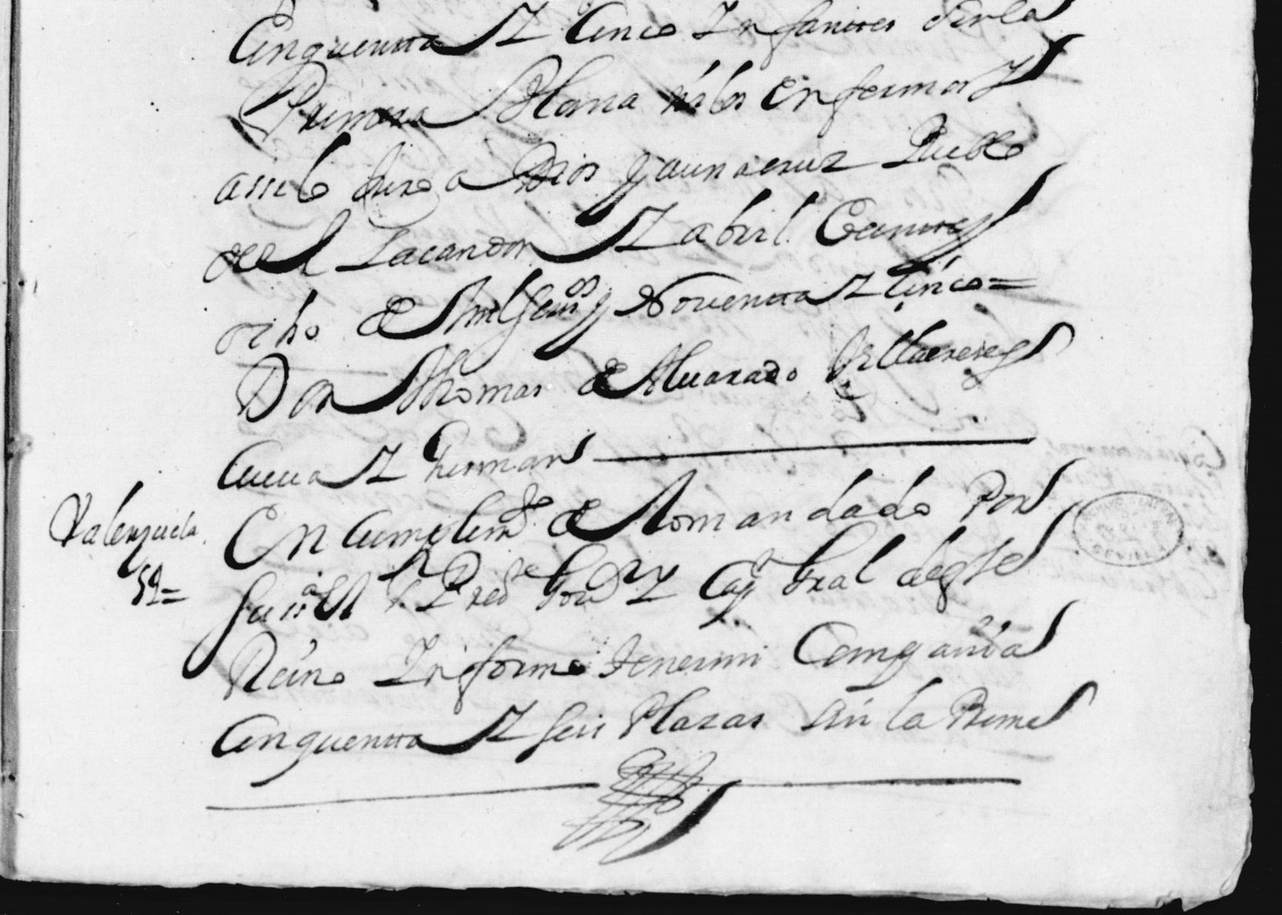lacandon: (335, 206, 649, 272)
